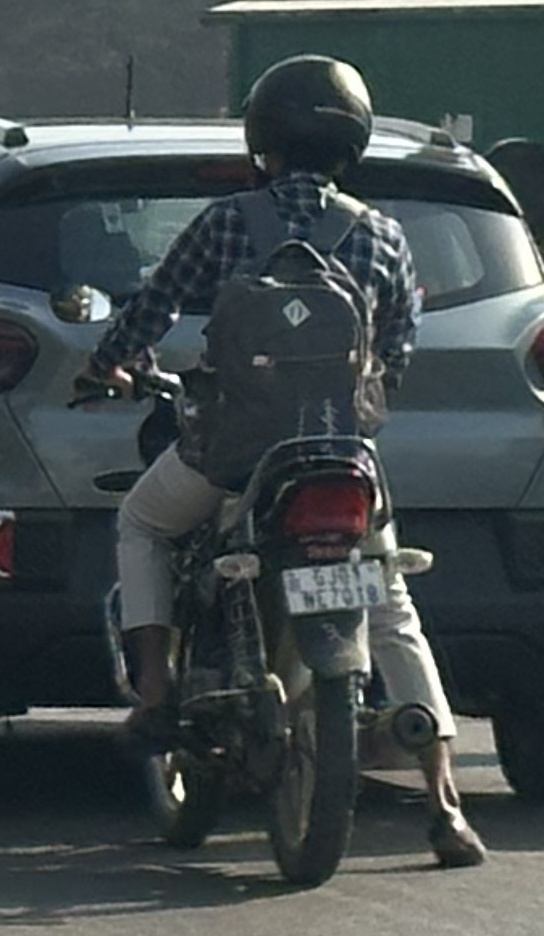BikeWithRider: (72, 35, 513, 897)
Helmet: (231, 37, 391, 197)
